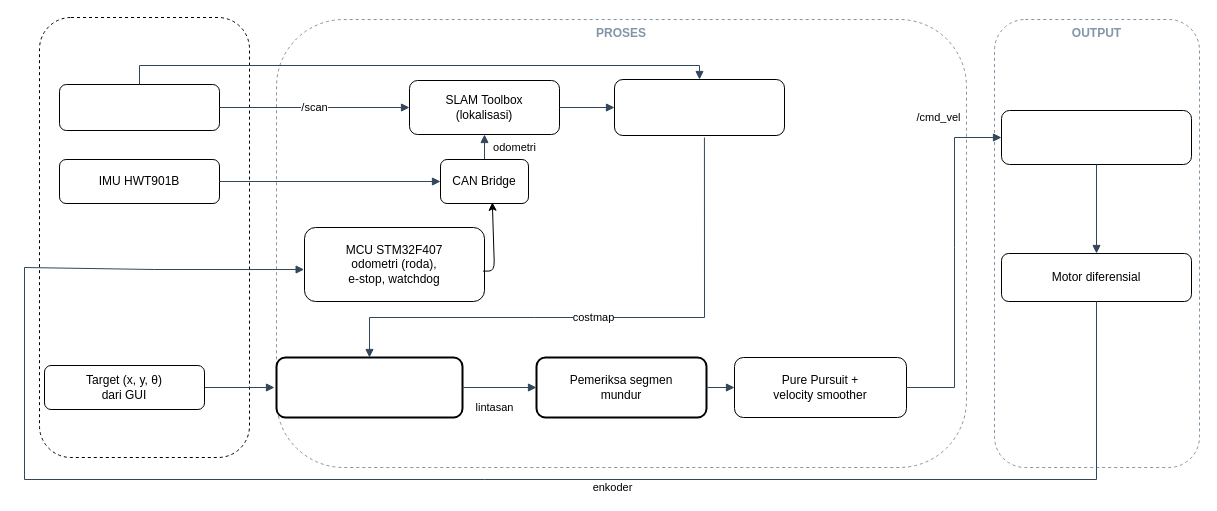
Some shapes in this 1217 by 511 pixel diagram are drawn without their labels. The box of each missing label's shape, as (x1, y1, x2, y2) in pixels:
Costmap berlapis statis · rintangan · inflasi: (614, 78, 784, 136)
INPUT: (38, 16, 250, 458)
LiDAR 2D (depan): (58, 84, 220, 130)
Perencana Hybrid A* shape-aware: (275, 356, 463, 418)
Servo driver CANopen CiA-402: (1000, 110, 1192, 164)
